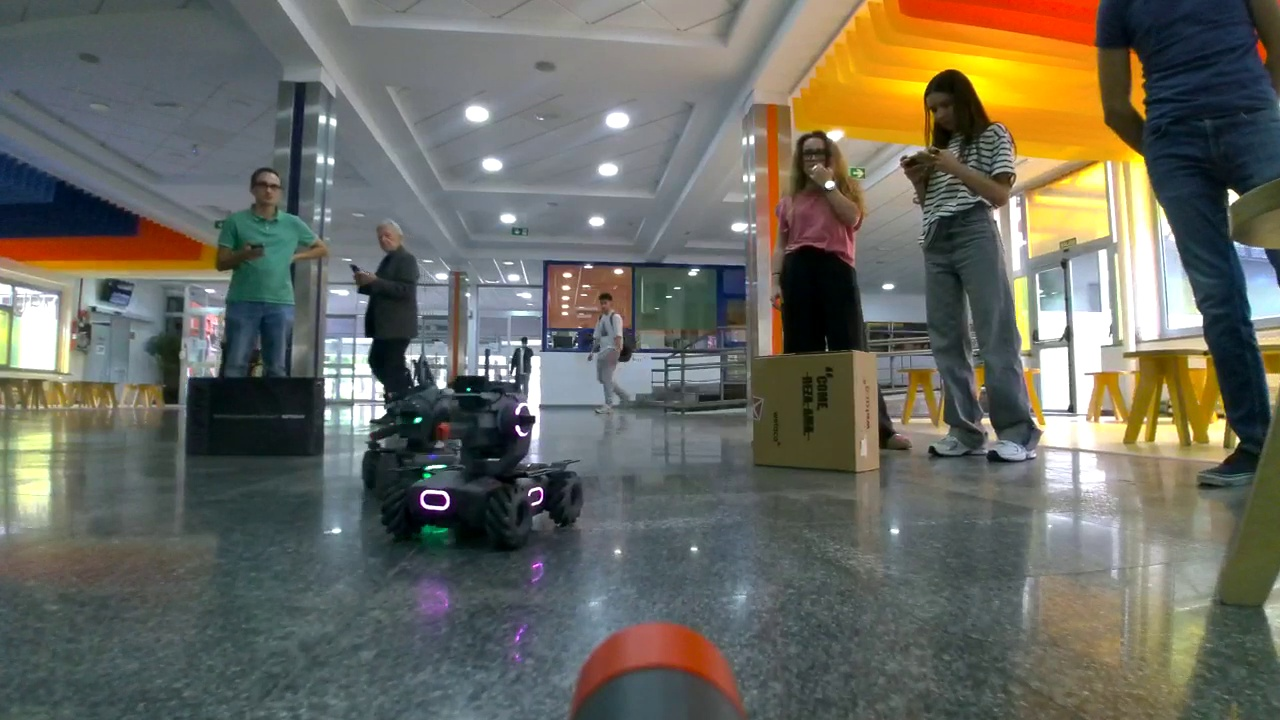robot: (387, 386, 584, 551)
